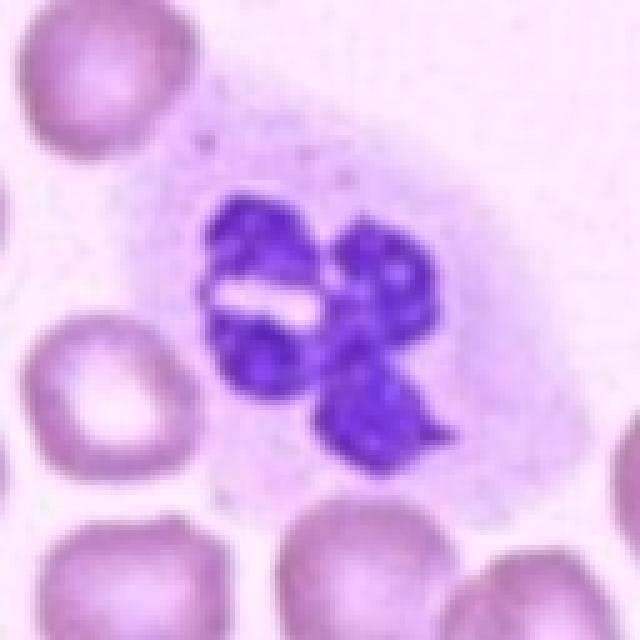neutro: (95, 118, 618, 535)
